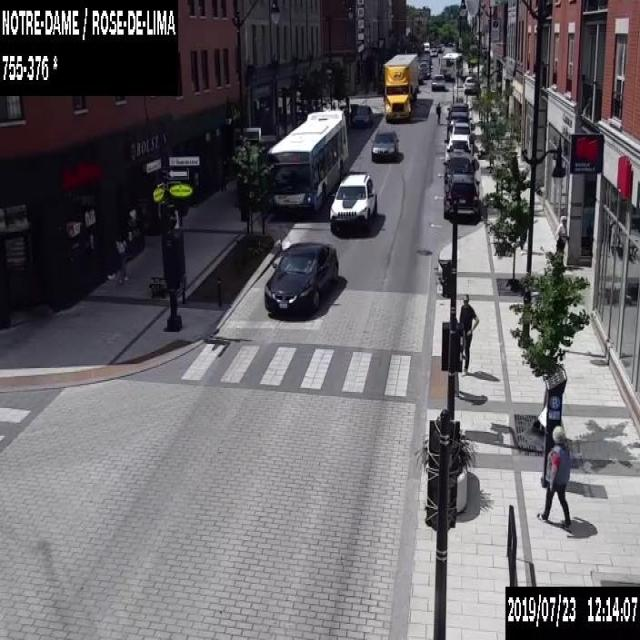bus: (266, 109, 348, 216), (439, 52, 462, 81)
pedestrian: (536, 424, 570, 526), (457, 294, 479, 374), (115, 230, 131, 284), (555, 214, 569, 250), (435, 100, 440, 122)
vehicle: (263, 242, 338, 318), (329, 173, 377, 232), (384, 53, 420, 122), (443, 169, 479, 218), (443, 133, 472, 163), (371, 129, 399, 160), (445, 111, 471, 139), (442, 151, 473, 174), (352, 105, 372, 126), (446, 103, 471, 118), (449, 122, 470, 136), (463, 76, 477, 93), (431, 73, 444, 90), (420, 66, 430, 78), (429, 47, 437, 56), (422, 41, 428, 51), (420, 61, 428, 67), (436, 44, 441, 51)
